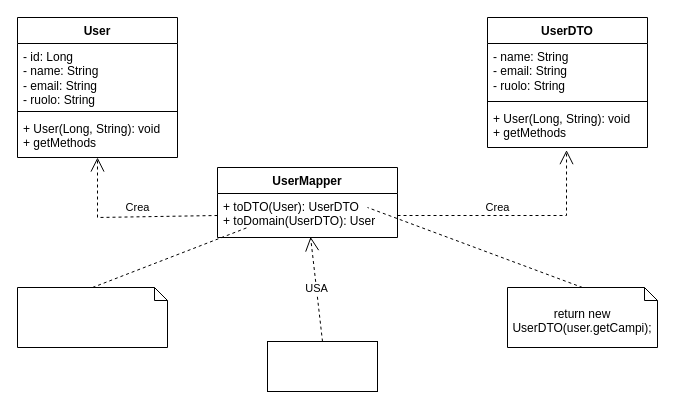
This 675x409 diagram has some shape labels left out. The centre of each missing label's shape, as x and y in pixels:
"CLIENT" belongs at [322,366].
"return new User(userDTO.getCampi);" belongs at [92,317].
